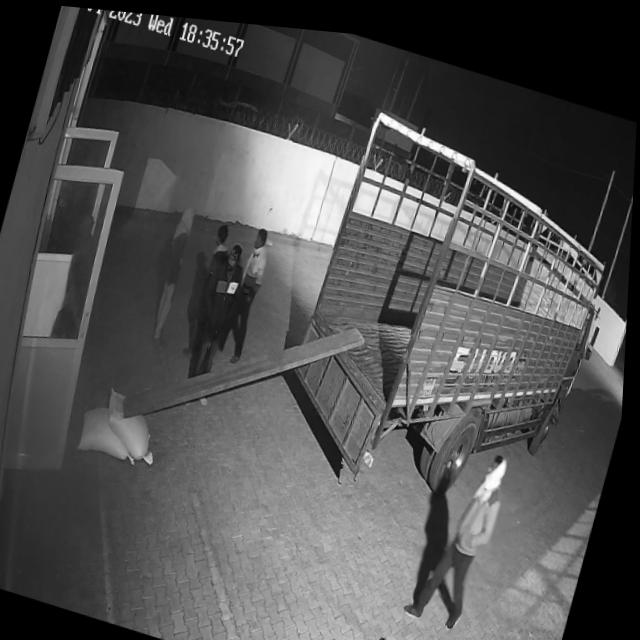sack: (97, 382, 171, 463), (78, 397, 150, 463)
